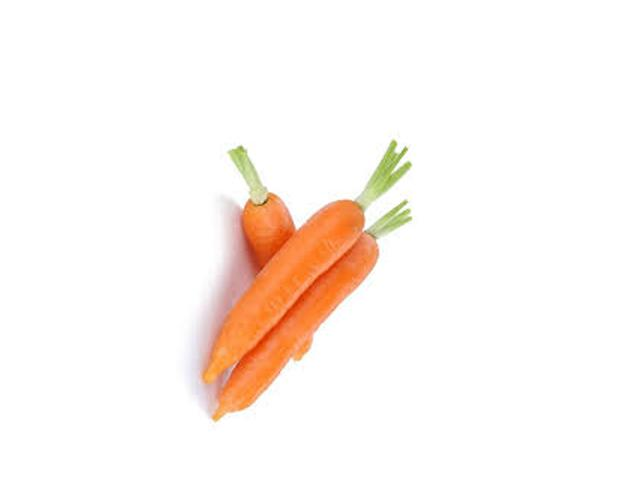carrot: (237, 148, 321, 369)
